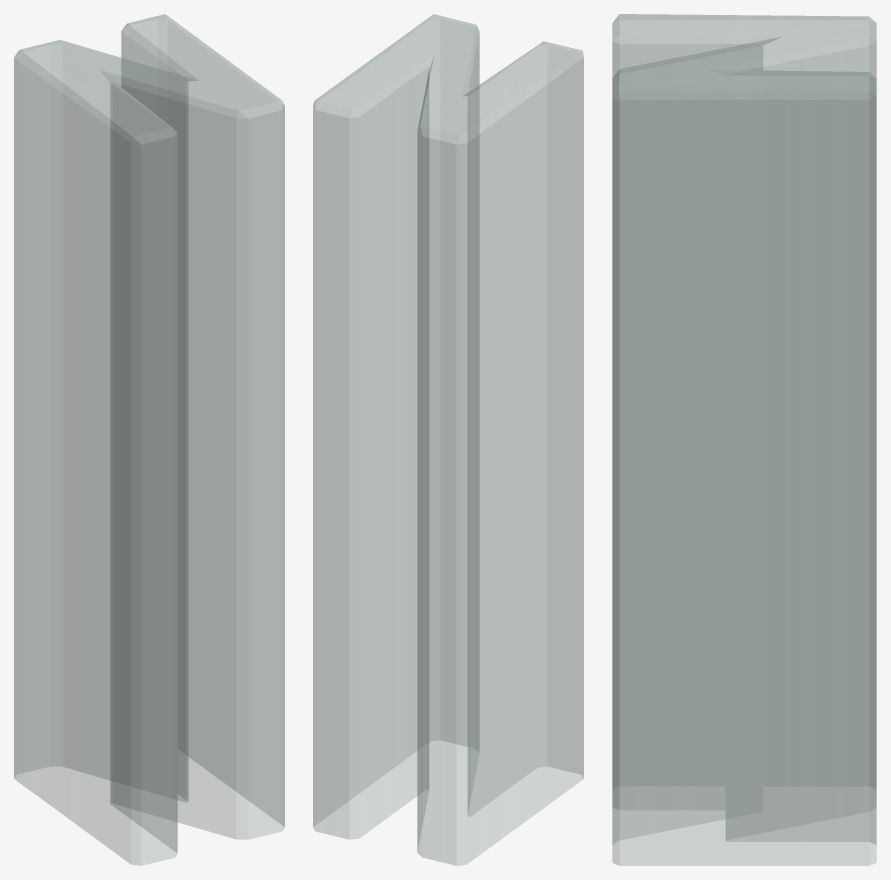
3 renders of one model, left to right at view 1: azimuth 30°, elevation 25°; view 2: azimuth 150°, elevation 25°; view 3: azimuth 270°, elevation 25°, orthographic. The views are drawn at different scales.
Parts seen in each view (by area): view 1: N; view 2: N; view 3: N.
Part boxes in pixels (x1,y1,x2,y2): N: (14,14,284,865); N: (313,14,583,865); N: (612,14,876,865).
Size of the model in its own units: 0.4282 by 1.94 by 0.6019.
Materials: 1 (1 with a texture image).
